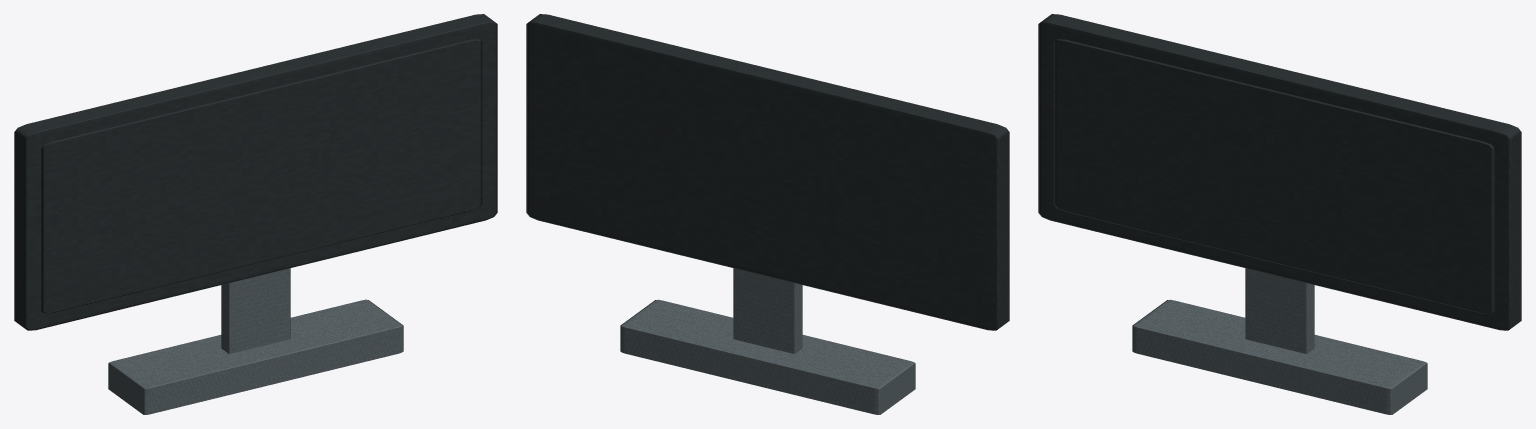
3 renders of one model, left to right at view 1: azimuth 30°, elevation 25°; view 2: azimuth 150°, elevation 25°; view 3: azimuth 330°, elevation 25°, orthographic.
Visible parts, largest first — view 1: screen, bezel, foot, neck; view 2: bezel, foot, neck; view 3: screen, bezel, foot, neck.
Part boxes in pixels (box(x1,y1,x2,y2)): screen: box(41, 39, 482, 314); bezel: box(14, 14, 497, 330); foot: box(108, 299, 403, 414); neck: box(221, 268, 290, 353); bezel: box(526, 14, 1009, 330); foot: box(620, 299, 915, 414); neck: box(733, 268, 802, 353); screen: box(1053, 39, 1494, 314); bezel: box(1038, 14, 1521, 330); foot: box(1132, 299, 1427, 414); neck: box(1245, 268, 1314, 353).
Size of the model in its own units: 1.12 by 0.6732 by 0.1518.
Materials: 2 (2 with a texture image).
